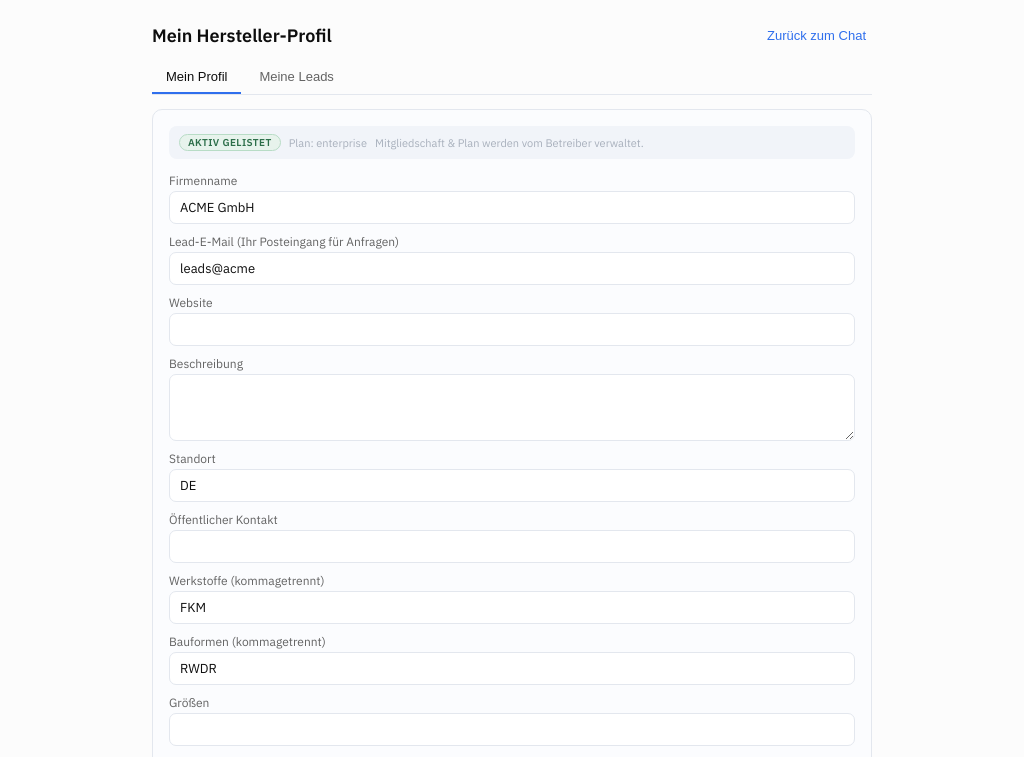
Test: PartnerSelfPane › saves editable fields — the PUT body carries NO owner-controlled fields
The width and height of the screenshot is (1024, 757).
Replace the text in the field with test id "sf-name" with "ACME neu": (512, 208) [169,191,855,224]
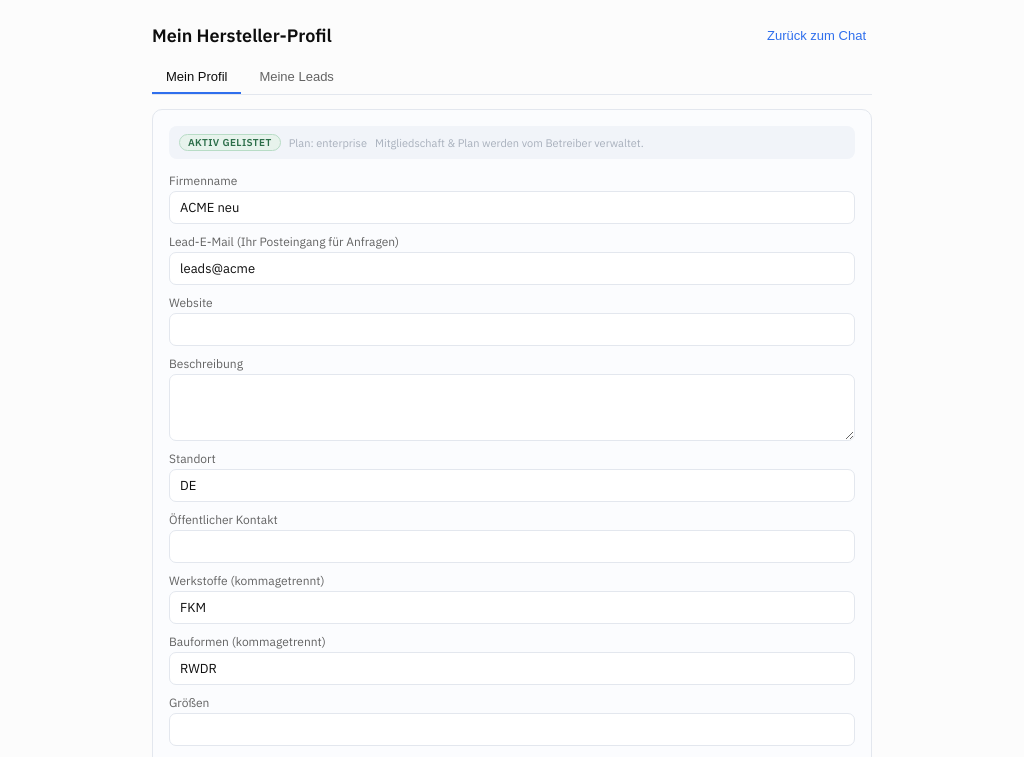
Replace the text in the field with test id "sf-werkstoffe" with "FKM, EPDM": (512, 608) [169,591,855,624]
(page scrolled)
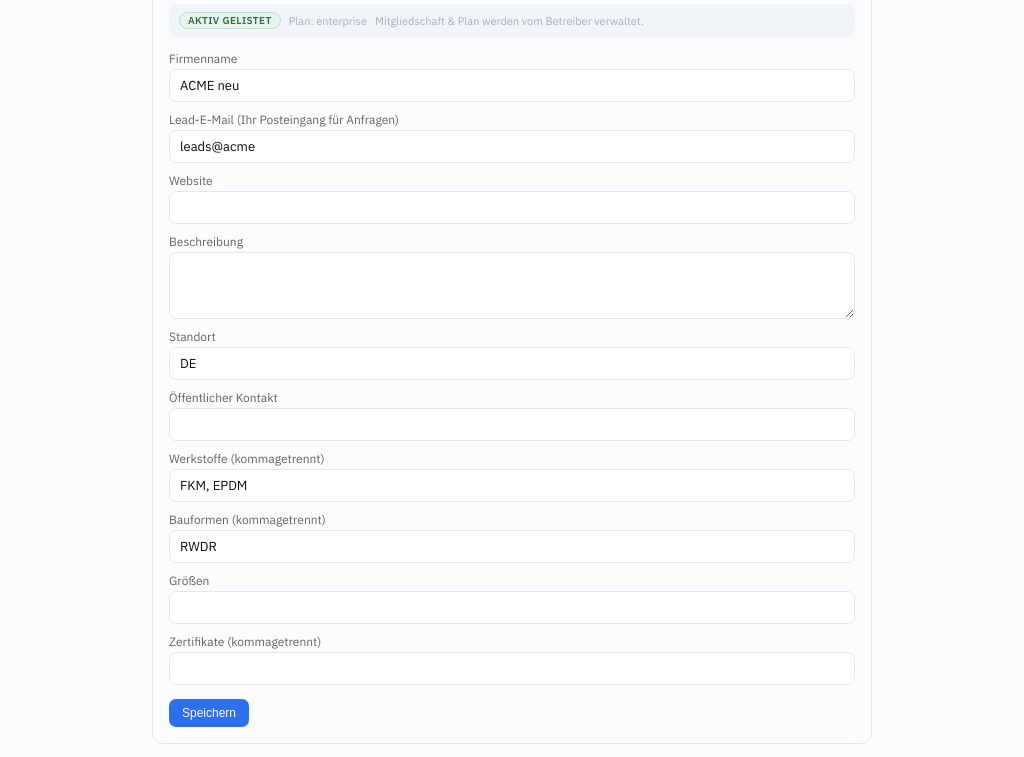
Click the button with test id "self-save": (209, 713) [169,699,249,727]
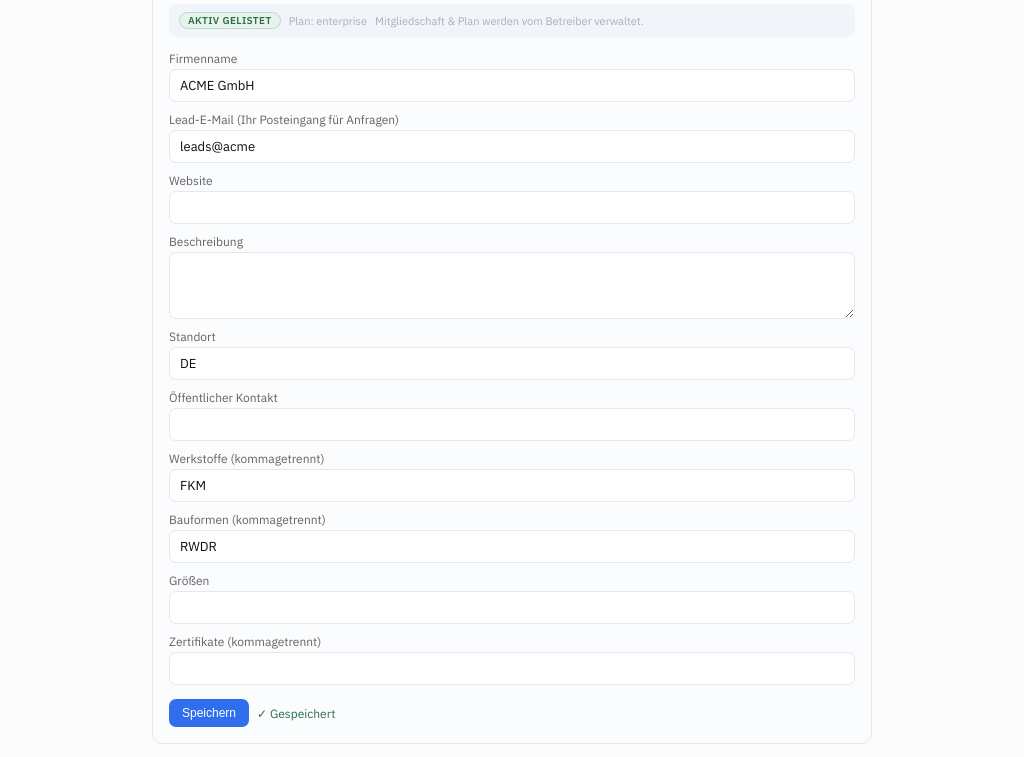
Now the text "✓ Gespeichert" is shown, box [257,706,335,720]
